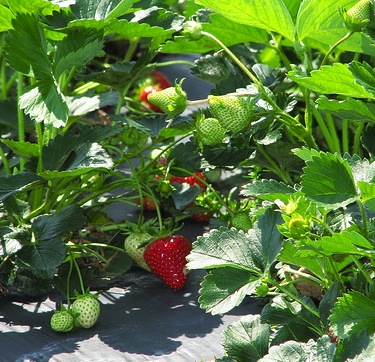ripe_strawberry: (143, 234, 194, 292), (170, 172, 212, 224)
unripe_strawberry: (206, 93, 256, 134), (124, 230, 158, 273), (147, 87, 188, 118), (71, 294, 103, 330), (198, 118, 229, 148), (344, 1, 372, 33), (52, 310, 75, 333), (230, 212, 254, 234)
